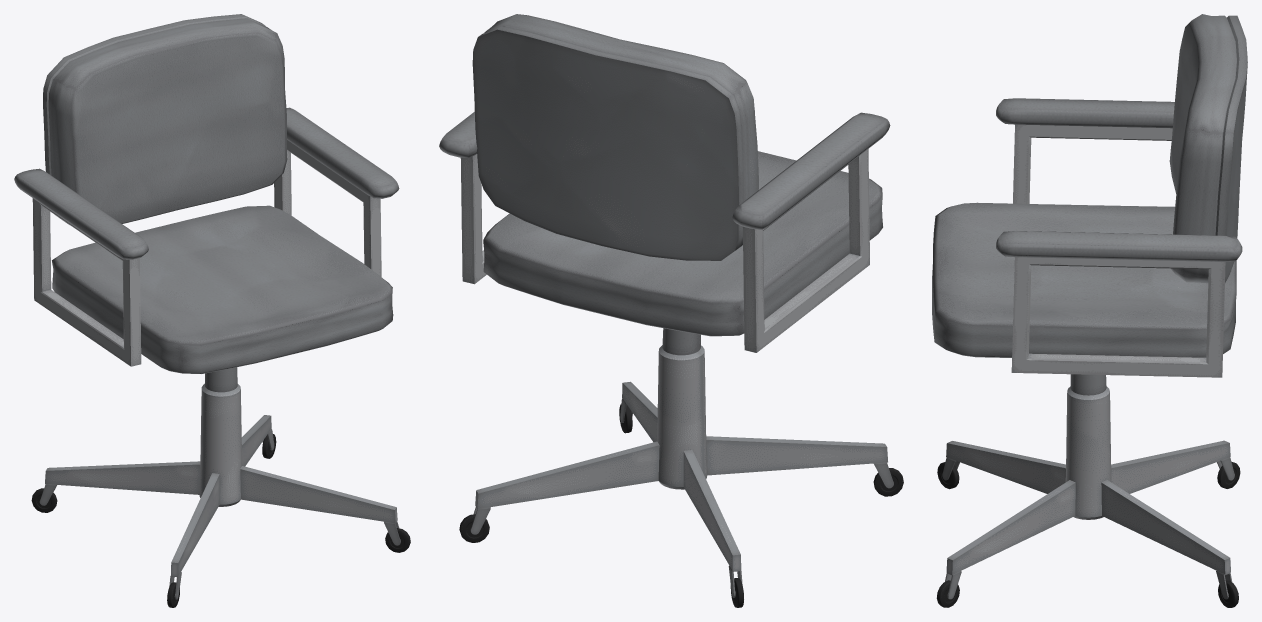
Rendered from greychair.glb.
The picture shows the model from 3 angles, left to right: view 1: azimuth 30°, elevation 25°; view 2: azimuth 150°, elevation 25°; view 3: azimuth 270°, elevation 25°; orthographic projection. The views are drawn at different scales.
Visible parts, largest first — view 1: pCube4; view 2: pCube4; view 3: pCube4.
Part boxes in pixels (box(x1,y1,x2,y2)): pCube4: box(14, 14, 410, 607); pCube4: box(439, 14, 903, 607); pCube4: box(932, 14, 1247, 607).
Size of the model in its own units: 0.6691 by 1.04 by 0.6062.
1 material, 1 textured.
